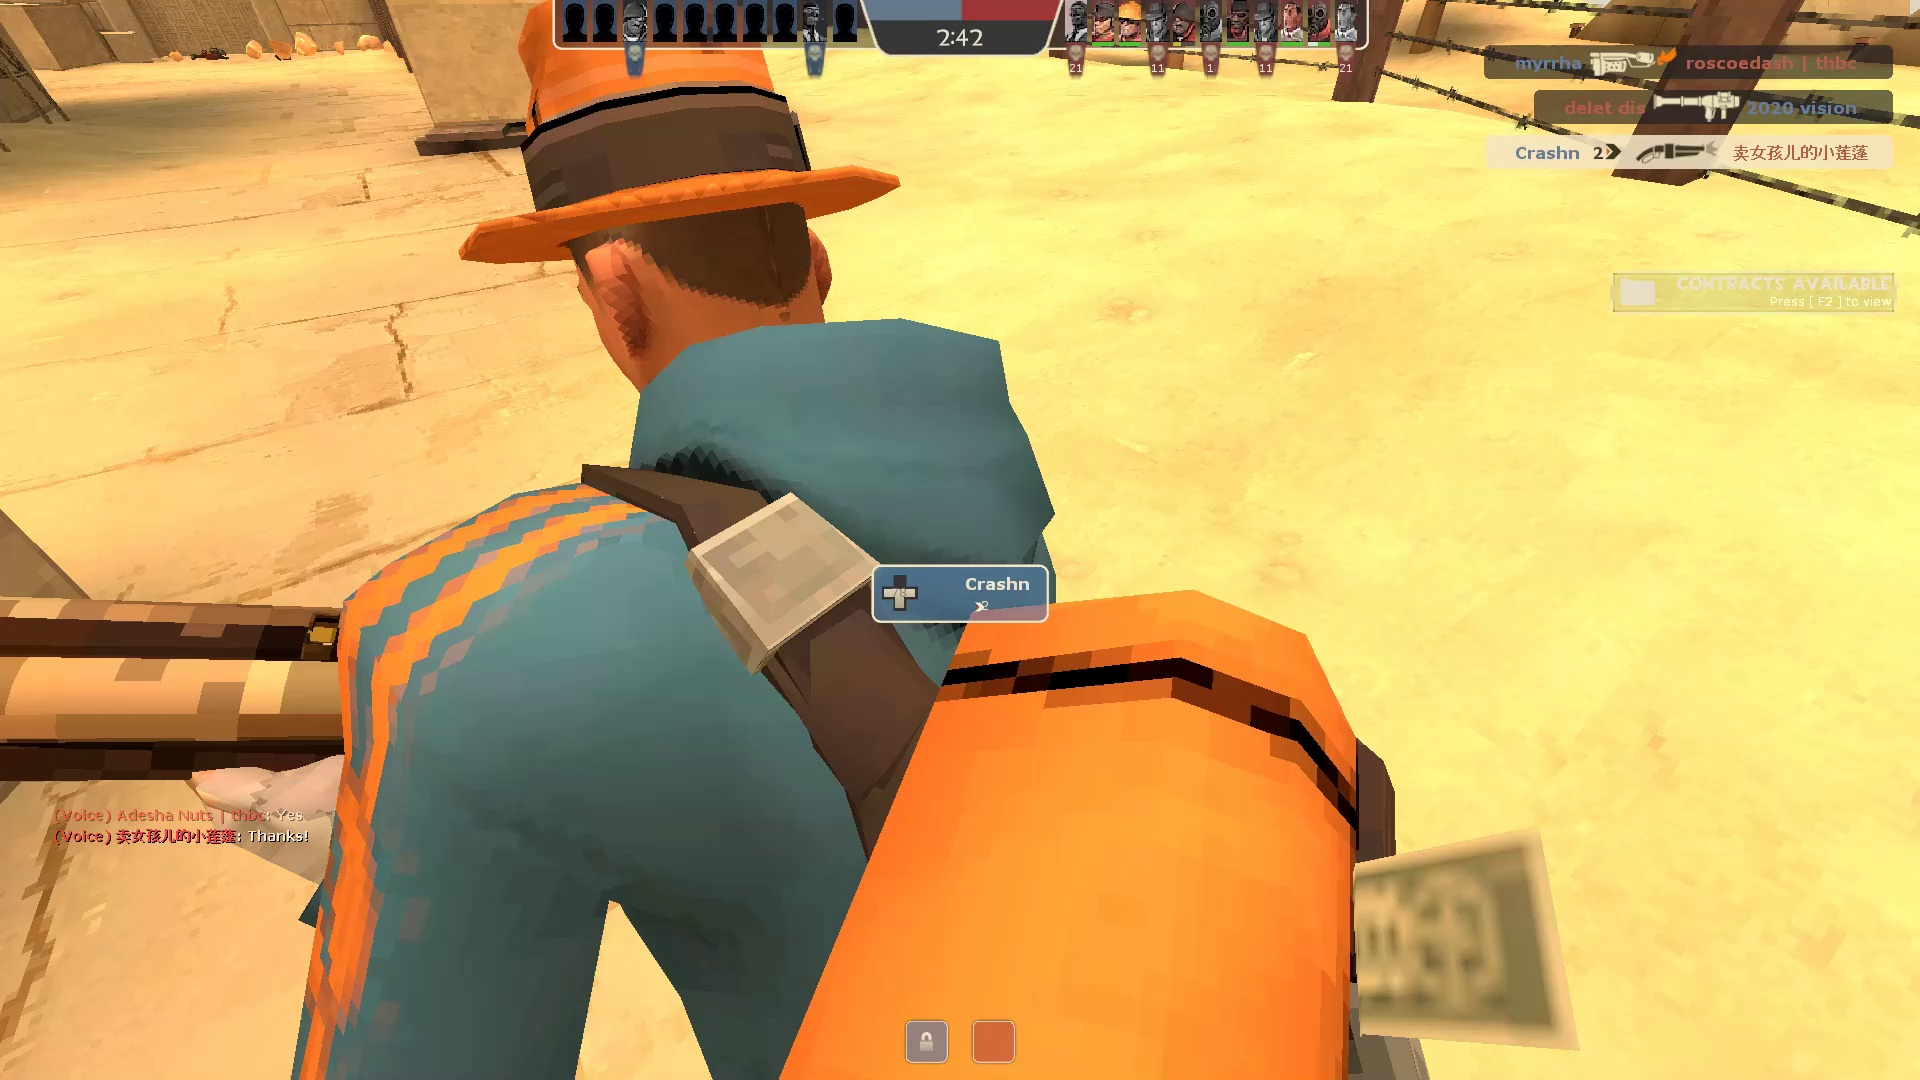blu_scout: (1, 4, 1604, 1080)
